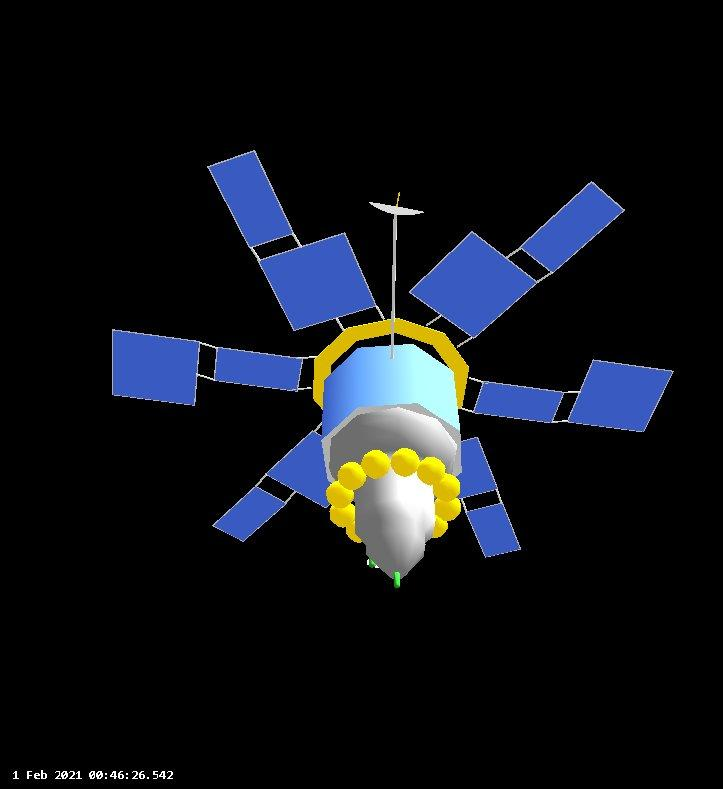antenna: (370, 178, 426, 227)
body: (324, 338, 469, 579)
solar: (404, 175, 629, 341), (204, 145, 381, 338), (207, 409, 362, 548), (470, 353, 682, 438), (104, 323, 311, 410), (435, 431, 527, 563)
thruster: (389, 568, 405, 589)
